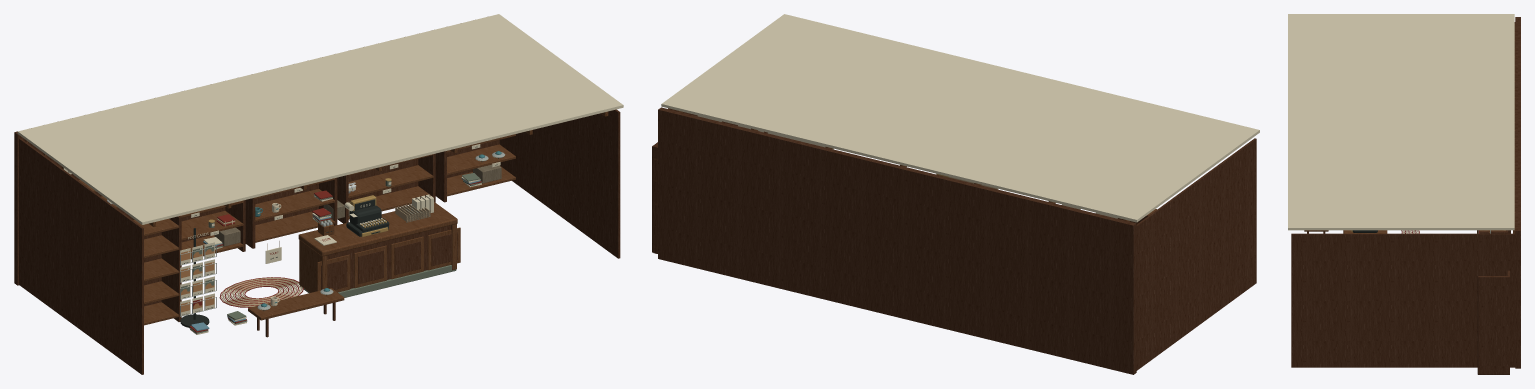
File: SM_Souvenir_Interior.fbx
3 renders of one model, left to right at view 1: azimuth 30°, elevation 25°; view 2: azimuth 150°, elevation 25°; view 3: azimuth 270°, elevation 25°, orthographic. The views are drawn at different scales.
Parts seen in each view (by area): view 1: SM_Souvenir_Interior; view 2: SM_Souvenir_Interior; view 3: SM_Souvenir_Interior.
Part boxes in pixels (left/top/right/bottom): SM_Souvenir_Interior: left=14, top=14, right=623, bottom=374; SM_Souvenir_Interior: left=652, top=14, right=1259, bottom=374; SM_Souvenir_Interior: left=1288, top=14, right=1520, bottom=374.
Bounding box in the file's own units: 11.8 × 5.29 × 3.57.
